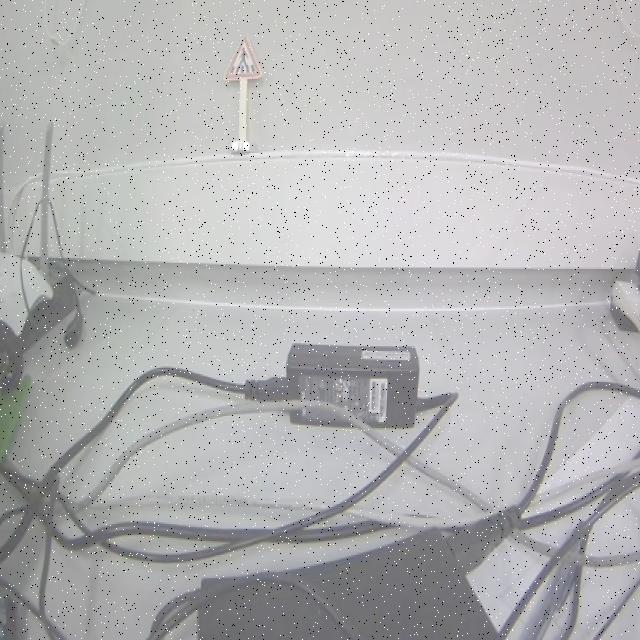Rambu Penyebrangan: (224, 35, 264, 82)
